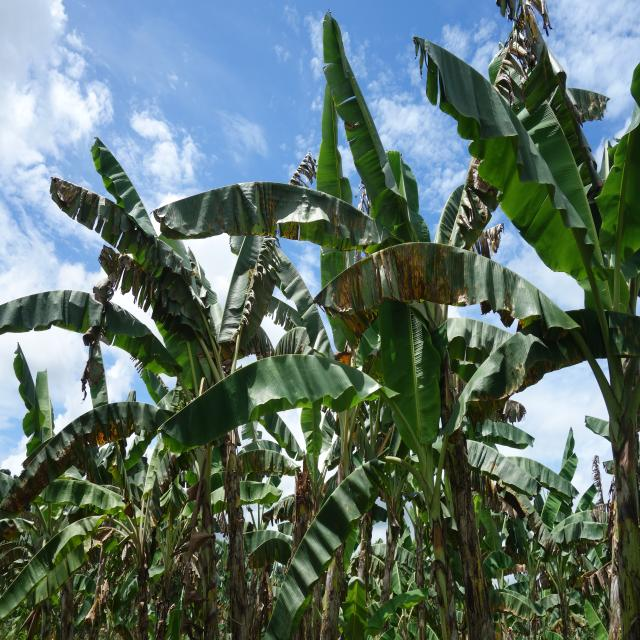Banana-plant: (392, 222, 496, 640), (595, 273, 640, 640), (403, 409, 456, 640), (314, 408, 366, 640), (188, 418, 220, 640), (217, 413, 248, 640)
